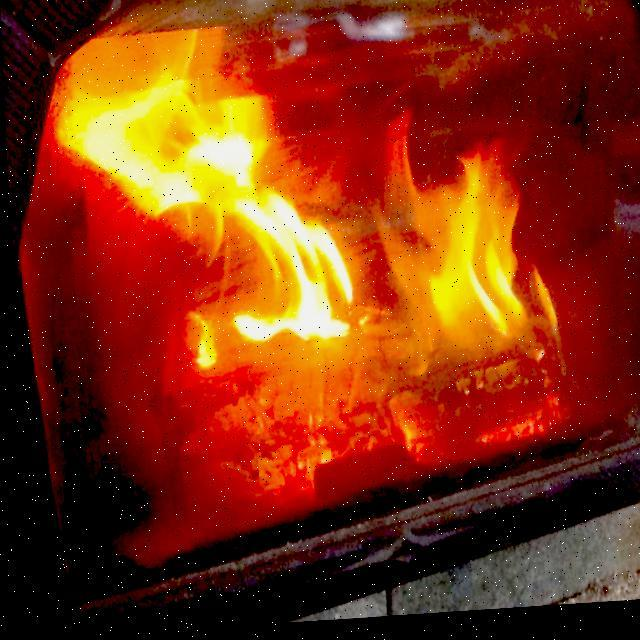Fire: (43, 12, 603, 476)
